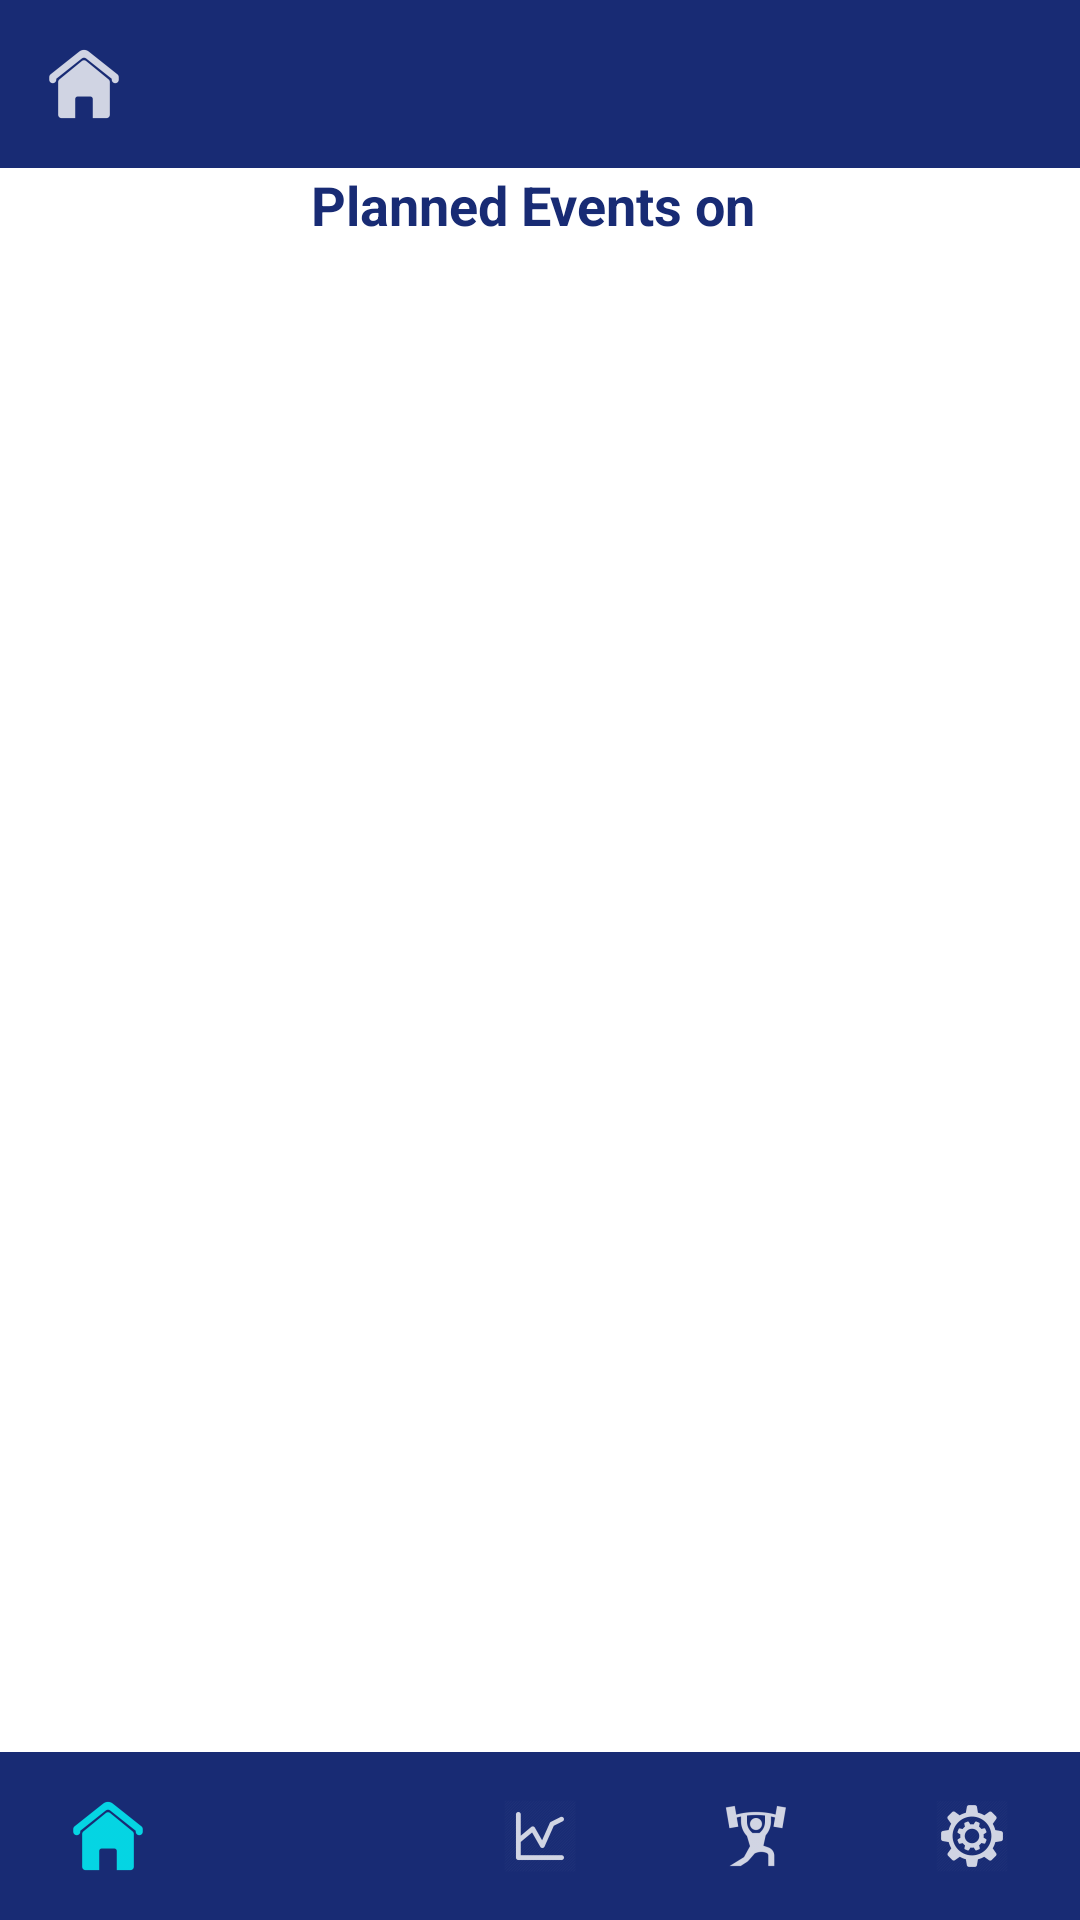

Screen size 1080px×1920px. Icon name, then its box in pixels as [x1,y1,x2,y2]:
graph: [516,1812,564,1860]
home: [73,1802,143,1870]
settings: [941,1805,1003,1867]
weight: [726,1806,786,1866]
